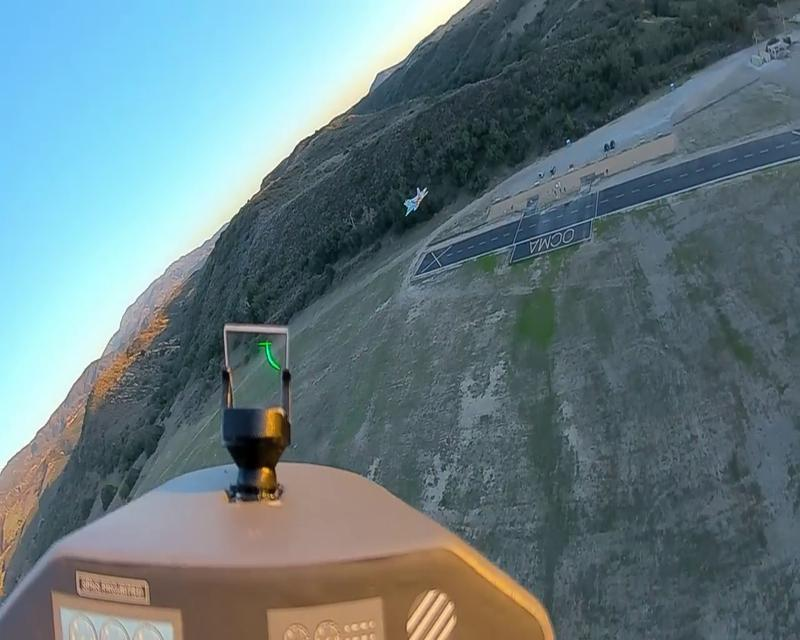UAV: (403, 188, 429, 216)
